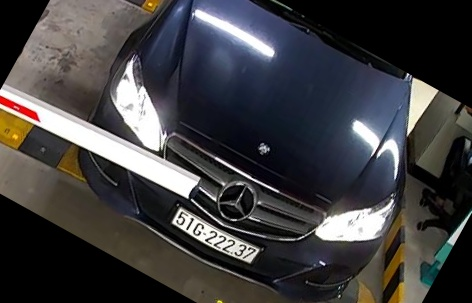plate: (173, 200, 267, 271)
